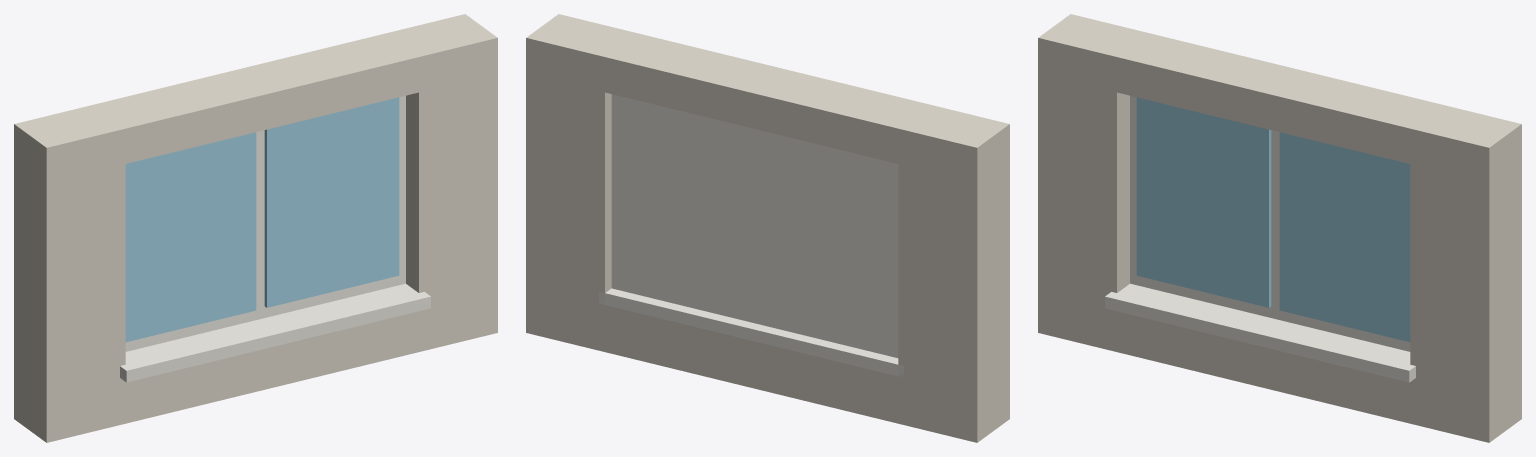
File: PRP_WindowInsert.fbx
3 renders of one model, left to right at view 1: azimuth 30°, elevation 25°; view 2: azimuth 150°, elevation 25°; view 3: azimuth 330°, elevation 25°, orthographic.
Parts seen in each view (by area): view 1: PRP_WindowInsert; view 2: PRP_WindowInsert; view 3: PRP_WindowInsert.
Boxes of the visible parts, x1,y1,x2,y2 form: PRP_WindowInsert: (14,14,497,442); PRP_WindowInsert: (526,14,1009,442); PRP_WindowInsert: (1038,14,1521,442).
Bounding box in the file's own units: 8 × 5 × 1.2.
